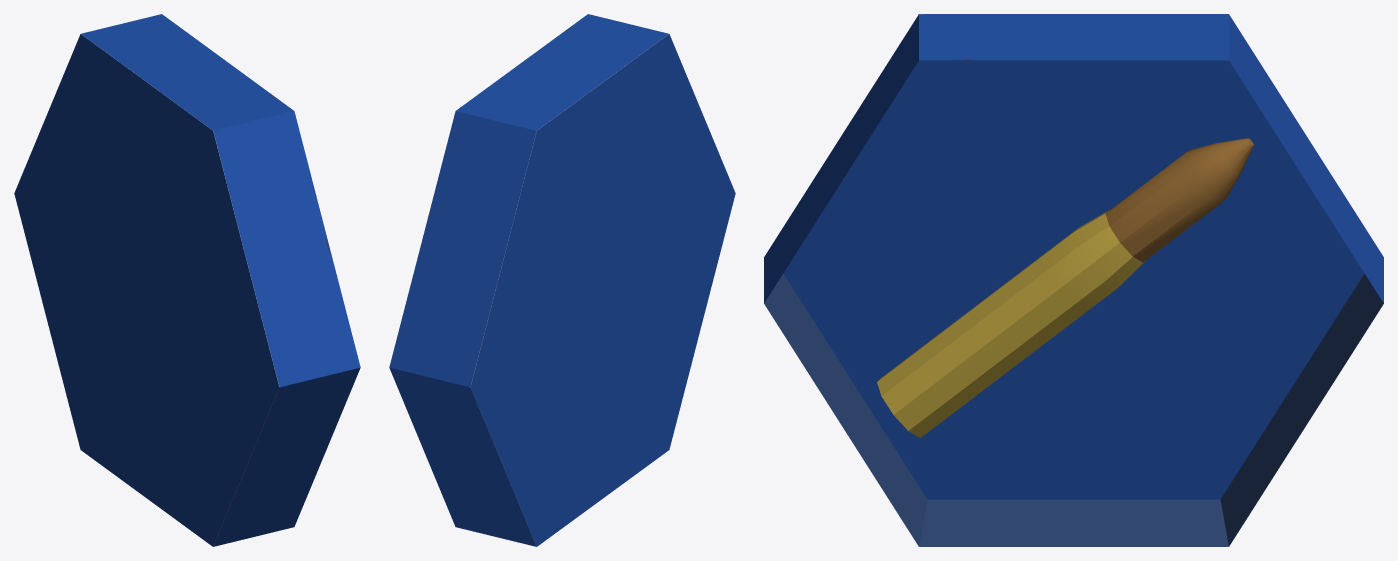
File: power up.fbx
3 renders of one model, left to right at view 1: azimuth 30°, elevation 25°; view 2: azimuth 150°, elevation 25°; view 3: azimuth 270°, elevation 25°, orthographic. The views are drawn at different scales.
Visible parts, largest first — view 1: back; view 2: back; view 3: back, bullet.
Part boxes in pixels (x1,y1,x2,y2): back: (14, 14, 360, 546); back: (389, 14, 735, 546); back: (764, 14, 1383, 546); bullet: (877, 138, 1253, 438).
Size of the model in its own units: 35.43 by 173 by 200.
